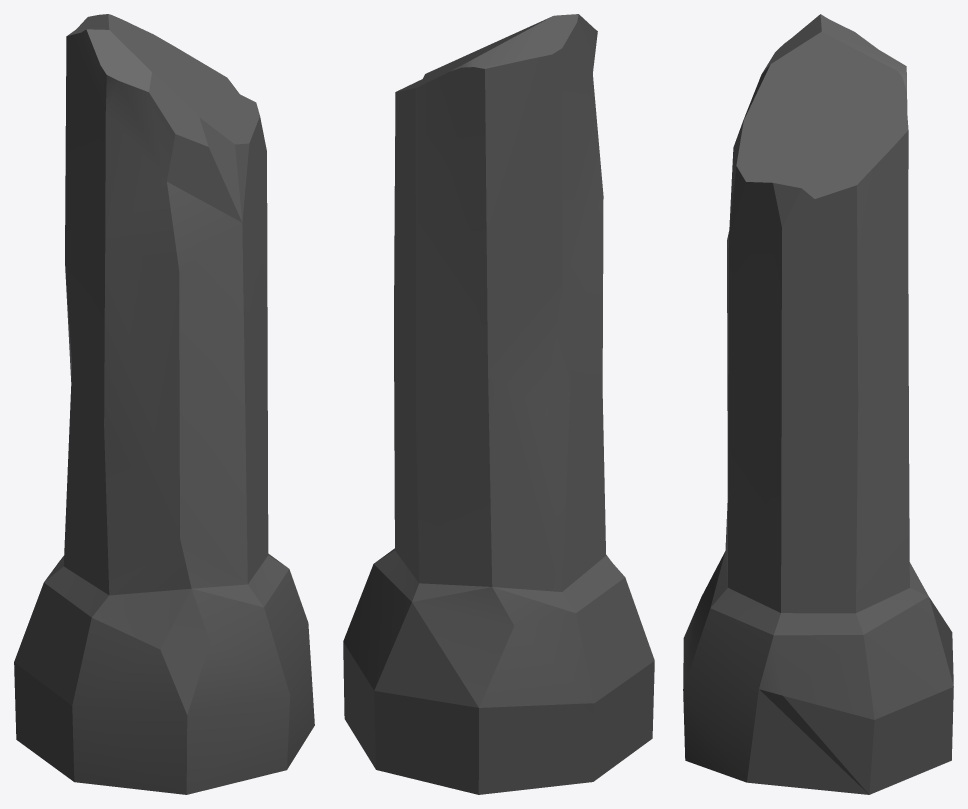
File: Column_04.fbx
3 views of the same model, side by side, from view 1: azimuth 30°, elevation 25°; view 2: azimuth 150°, elevation 25°; view 3: azimuth 270°, elevation 25° (orthographic). The views are drawn at different scales.
Visible parts, largest first — view 1: Column_04_LOD0; view 2: Column_04_LOD0; view 3: Column_04_LOD0.
Part boxes in pixels (bbox=[...]): Column_04_LOD0: bbox=[14, 14, 314, 794]; Column_04_LOD0: bbox=[343, 14, 654, 794]; Column_04_LOD0: bbox=[683, 14, 953, 794].
Size of what is drawn, in the model's own units: 0.6971 by 1.94 by 0.6924.
